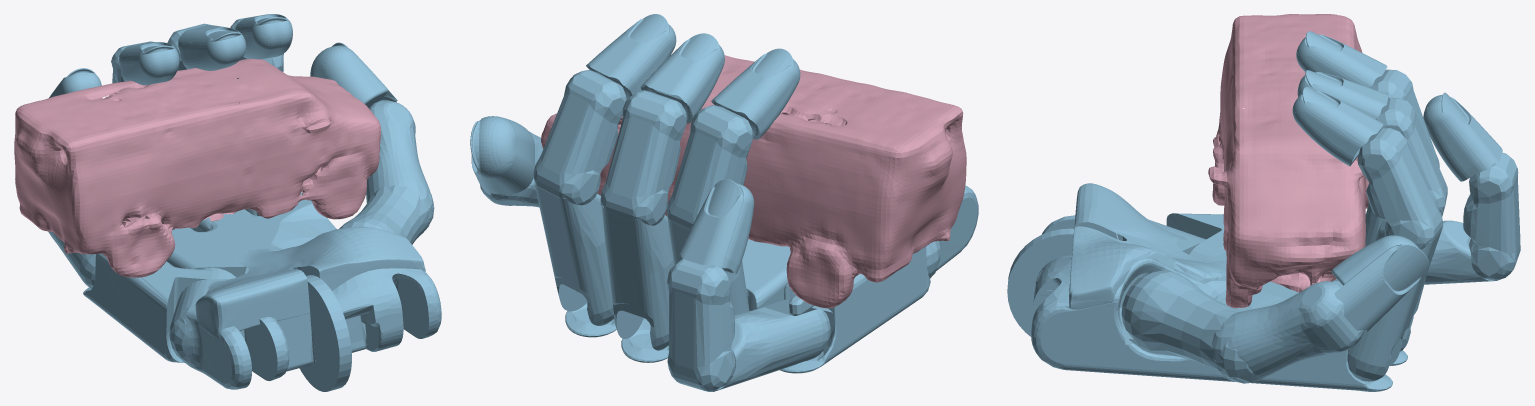
3 renders of one model, left to right at view 1: azimuth 30°, elevation 25°; view 2: azimuth 150°, elevation 25°; view 3: azimuth 270°, elevation 25°, orthographic. The views are drawn at different scales.
Visible parts, largest first — view 1: hand, world; view 2: hand, world; view 3: hand, world.
Part boxes in pixels (x1,y1,x2,y2): hand: [48, 14, 441, 391]; world: [14, 58, 380, 277]; hand: [470, 14, 978, 391]; world: [541, 55, 966, 308]; hand: [1007, 31, 1520, 391]; world: [1208, 14, 1369, 308].
Bounding box in the file's own units: 0.1533 × 0.1002 × 0.1597.
